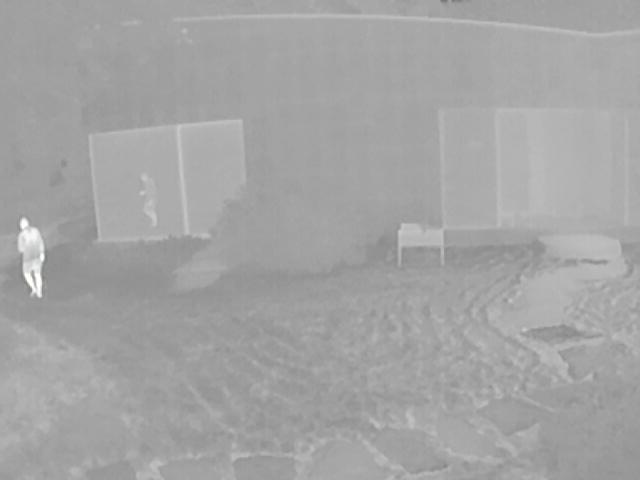person: (18, 218, 46, 299), (138, 170, 160, 227)
